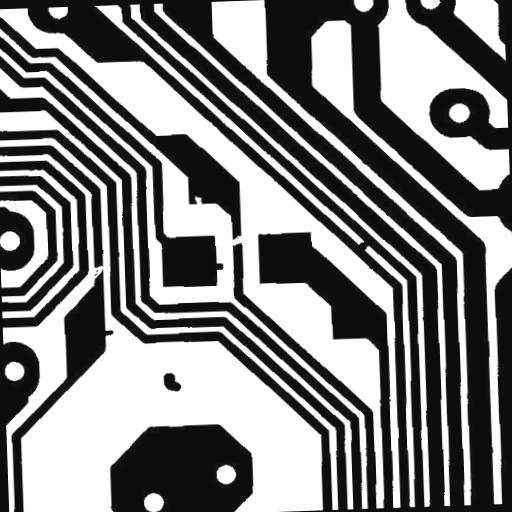copper: (155, 364, 188, 399)
mousebite: (186, 188, 208, 214)
open: (216, 226, 250, 254), (82, 257, 112, 286)
short: (350, 231, 376, 257)
spur: (202, 255, 230, 277), (92, 322, 120, 344)
